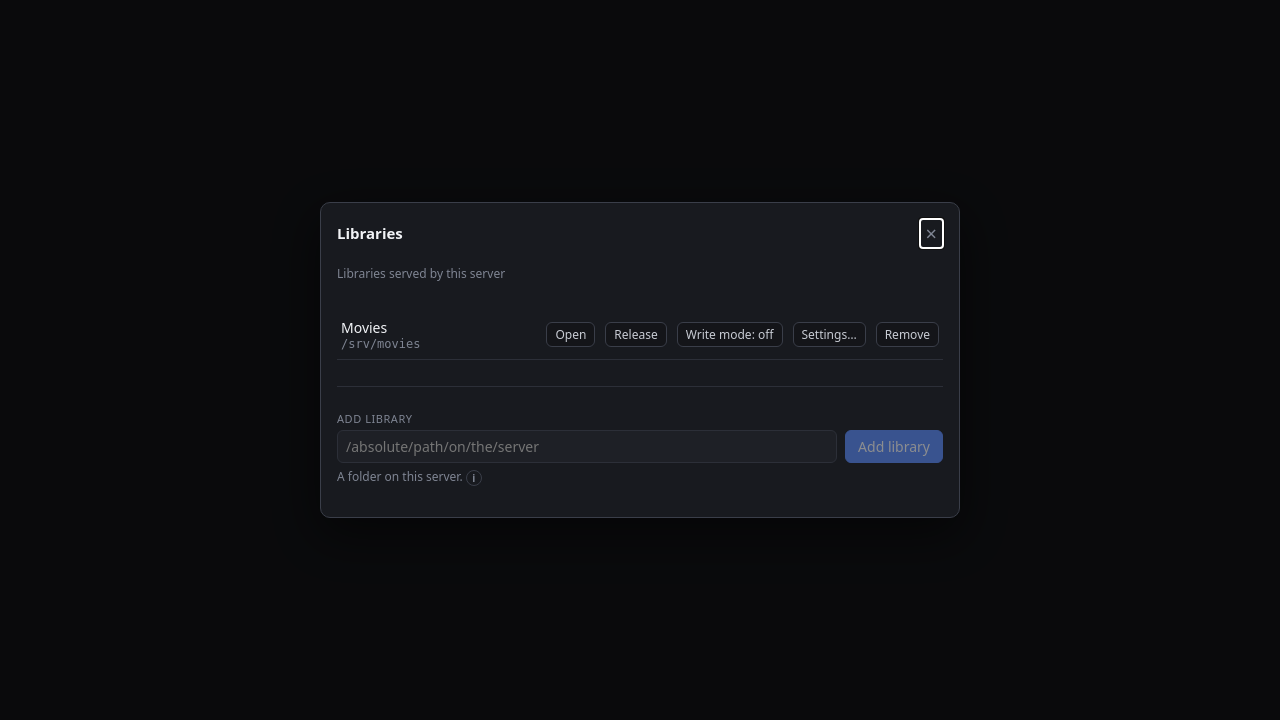
Test: cancelling removal deletes nothing
Expected: the text "Movies" is shown, [341,318,387,337]
Click the button with aria-label "Remove Movies": (907, 334) [876,322,939,347]
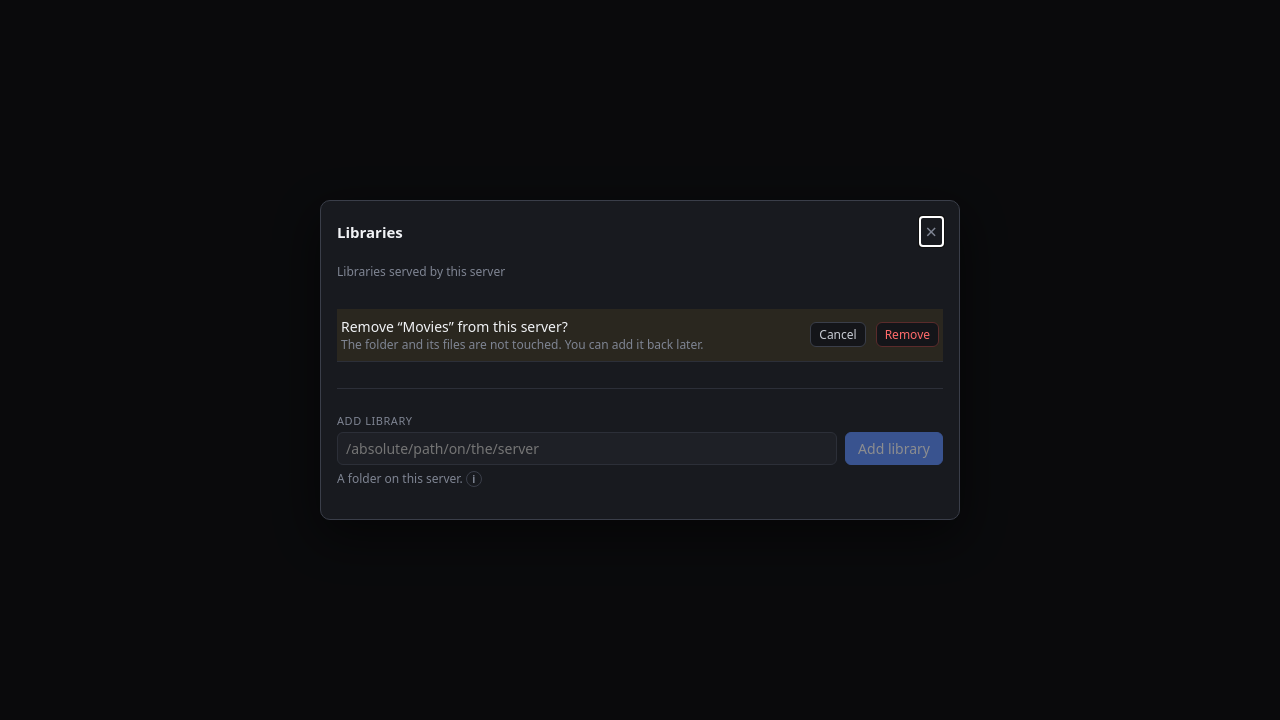
Click the button "Cancel": (838, 334) [810,322,866,347]
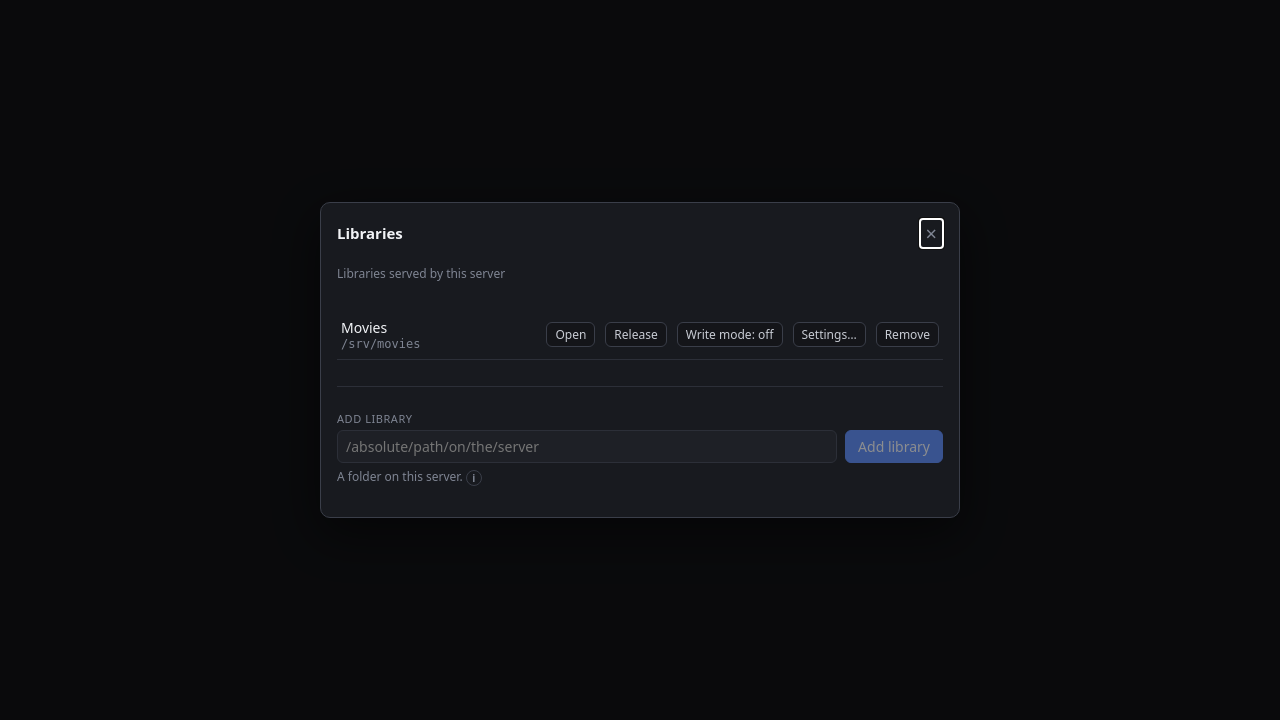
Expected: the text "/srv/movies" is shown, [341,337,420,351]
